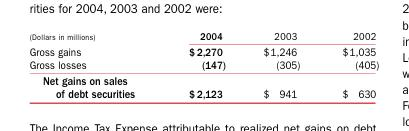table: (28, 29, 378, 100)
table column: (28, 29, 161, 100), (161, 29, 243, 100), (243, 29, 320, 100), (320, 29, 378, 100)
table column header: (28, 29, 378, 43)
table row: (28, 72, 378, 100), (28, 57, 378, 72), (28, 29, 378, 43), (28, 43, 378, 57)
